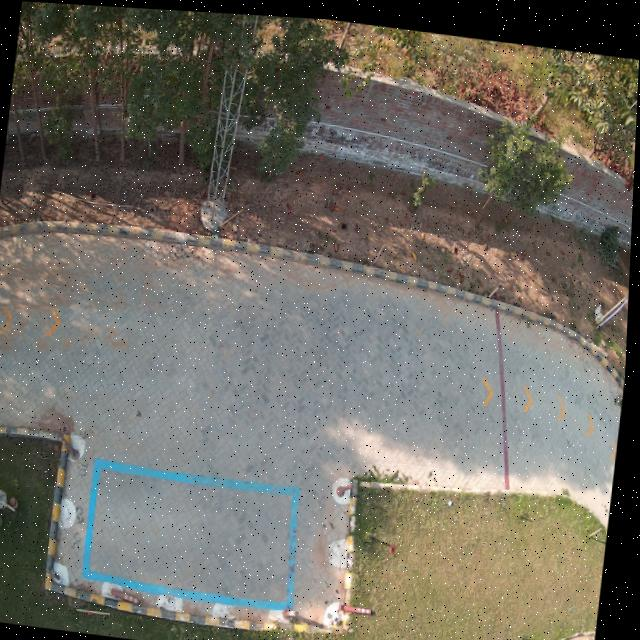No Car: (0, 1, 639, 640)
